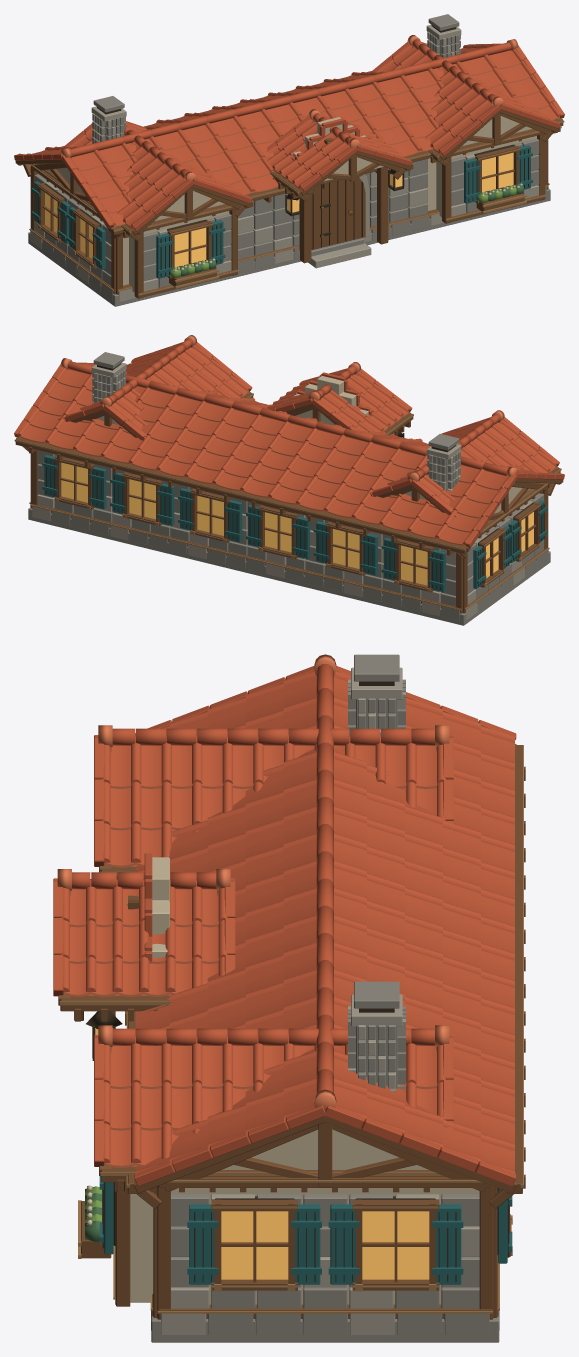
The picture shows the model from 3 angles, top to bottom: view 1: azimuth 30°, elevation 25°; view 2: azimuth 150°, elevation 25°; view 3: azimuth 270°, elevation 25°; orthographic projection. The views are drawn at different scales.
Visible parts, largest first — view 1: alpine_skyscraper_1_geometry, alpine_skyscraper_1_geometry ceramic; view 2: alpine_skyscraper_1_geometry ceramic, alpine_skyscraper_1_geometry; view 3: alpine_skyscraper_1_geometry ceramic, alpine_skyscraper_1_geometry.
Boxes of the visible parts, box(x1,y1,x2,y2) form: alpine_skyscraper_1_geometry: box(15, 14, 564, 306); alpine_skyscraper_1_geometry ceramic: box(14, 35, 564, 231); alpine_skyscraper_1_geometry ceramic: box(14, 335, 564, 547); alpine_skyscraper_1_geometry: box(14, 347, 563, 625); alpine_skyscraper_1_geometry ceramic: box(53, 654, 516, 1186); alpine_skyscraper_1_geometry: box(58, 654, 525, 1342).
Size of the model in its own units: 2.27 by 0.7208 by 1.02.
